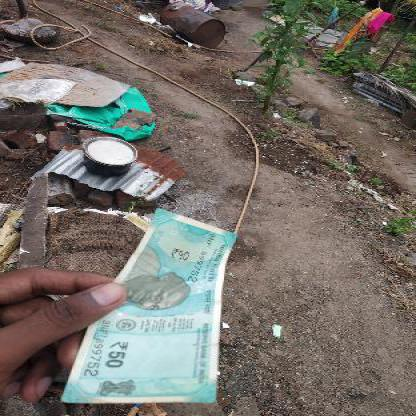New50Front: (74, 221, 223, 400)
